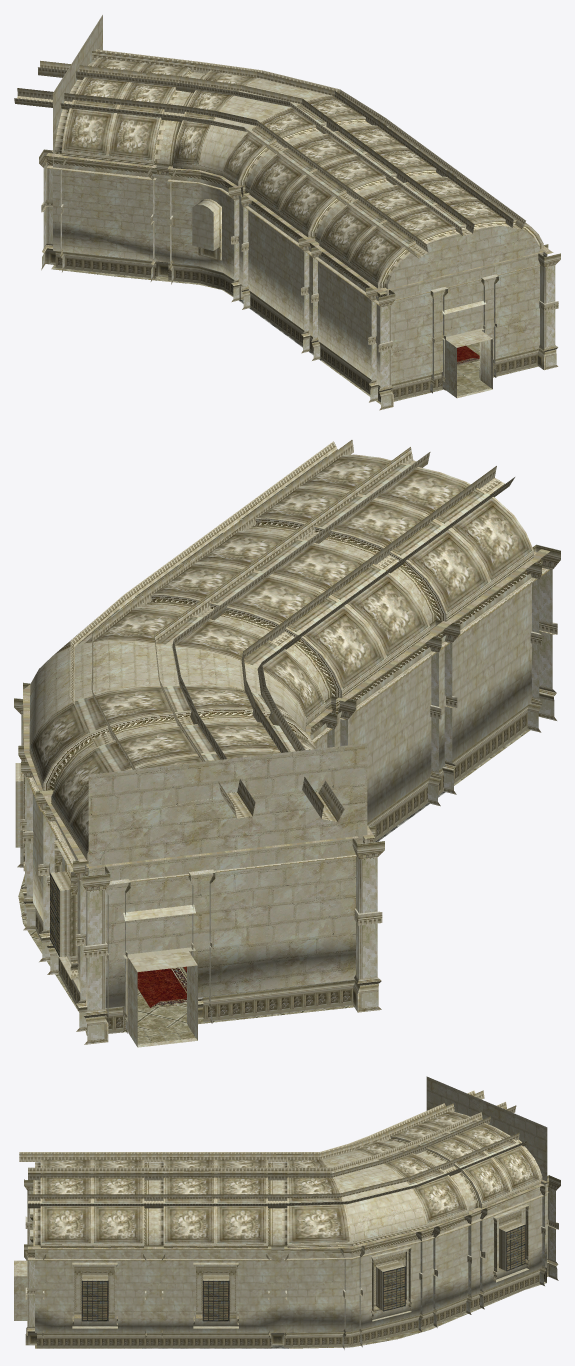
3 views of the same model, one above another, from view 1: azimuth 30°, elevation 25°; view 2: azimuth 150°, elevation 25°; view 3: azimuth 270°, elevation 25° (orthographic). The views are drawn at different scales.
Visible parts, largest first — view 1: Shape 1, Shape 0, Shape 2, Shape 3, Shape 17, Shape 6, Shape 10; view 2: Shape 1, Shape 0, Shape 2, Shape 3, Shape 6, Shape 17, Shape 10, Shape 9; view 3: Shape 1, Shape 0, Shape 2, Shape 17, Shape 6, Shape 16, Shape 3, Shape 10, Shape 8.
Part boxes in pixels (left/top/right/bottom): Shape 1: left=53, top=15, right=543, bottom=398; Shape 0: left=61, top=57, right=529, bottom=283; Shape 2: left=14, top=49, right=558, bottom=410; Shape 3: left=41, top=164, right=557, bottom=407; Shape 17: left=55, top=255, right=537, bottom=402; Shape 6: left=39, top=149, right=560, bottom=397; Shape 10: left=51, top=265, right=538, bottom=404; Shape 1: left=29, top=527, right=535, bottom=1047; Shape 0: left=29, top=454, right=533, bottom=853; Shape 2: left=17, top=440, right=557, bottom=1044; Shape 3: left=20, top=567, right=556, bottom=1040; Shape 6: left=14, top=544, right=560, bottom=1033; Shape 17: left=35, top=710, right=527, bottom=1035; Shape 10: left=18, top=729, right=530, bottom=1044; Shape 9: left=137, top=966, right=186, bottom=1007; Shape 1: left=14, top=1076, right=547, bottom=1332; Shape 0: left=40, top=1111, right=540, bottom=1243; Shape 2: left=19, top=1090, right=558, bottom=1349; Shape 17: left=37, top=1271, right=546, bottom=1348; Shape 6: left=24, top=1175, right=560, bottom=1339; Shape 16: left=81, top=1224, right=525, bottom=1321; Shape 3: left=25, top=1188, right=557, bottom=1346; Shape 10: left=35, top=1282, right=546, bottom=1348; Shape 8: left=30, top=1213, right=528, bottom=1275.
Bounding box in the file's own units: 2490 × 1421 × 4530.
